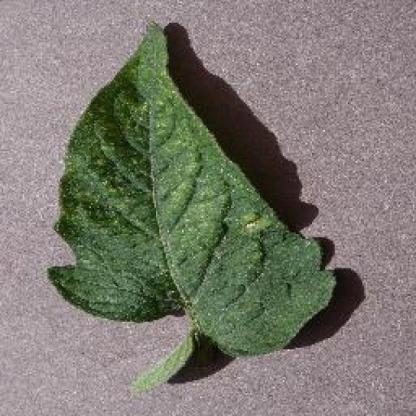Tomato_Spider_Mites: (48, 21, 332, 382)
